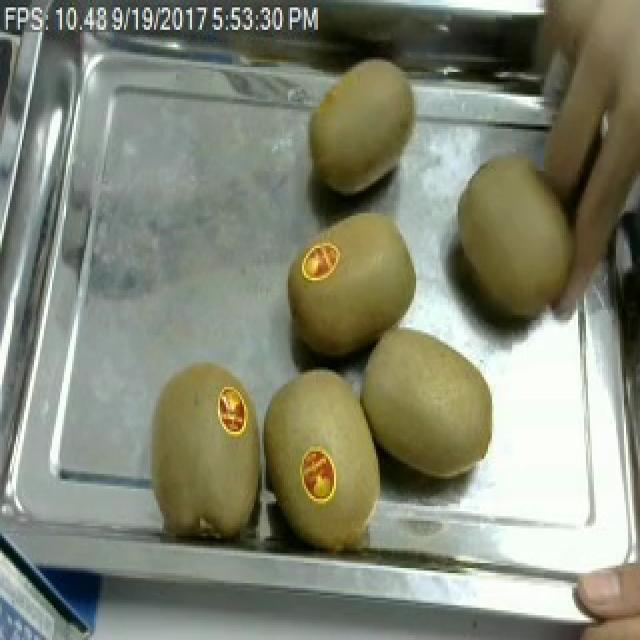Fruit: (504, 0, 640, 251), (444, 136, 590, 342), (348, 317, 506, 488), (262, 355, 396, 548), (132, 345, 262, 538), (280, 204, 426, 367), (296, 42, 428, 206), (562, 543, 640, 640)
